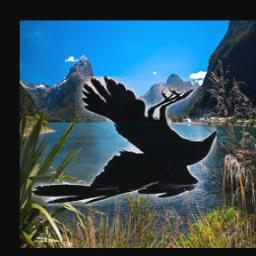Crow: (32, 76, 217, 206)
